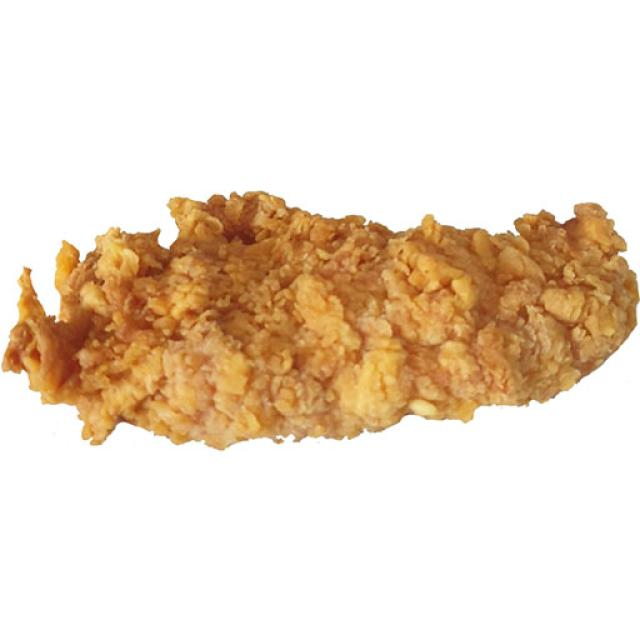Frango: (55, 166, 625, 484)
